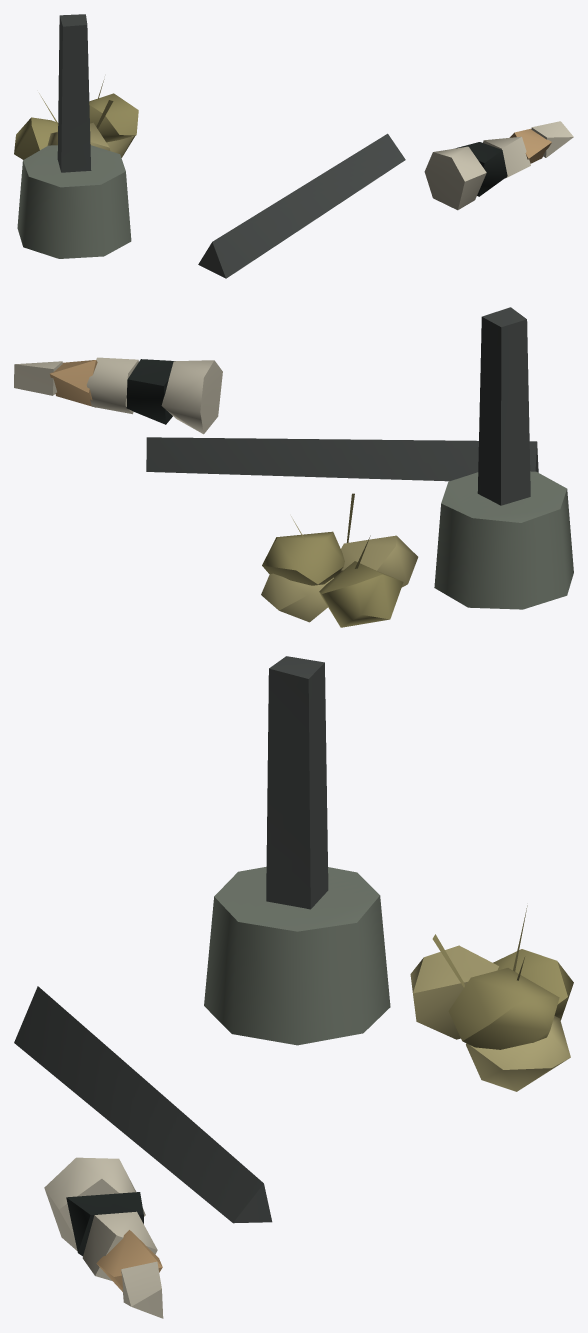
The model's file is windsock_b_lod2.glb.
3 renders of one model, top to bottom at view 1: azimuth 30°, elevation 25°; view 2: azimuth 150°, elevation 25°; view 3: azimuth 270°, elevation 25°, orthographic. The views are drawn at different scales.
Visible parts, largest first — view 1: Surface.001; view 2: Surface.001; view 3: Surface.001.
Boxes of the visible parts, left/top/right/bottom form: Surface.001: left=14, top=14, right=573, bottom=278; Surface.001: left=14, top=307, right=573, bottom=627; Surface.001: left=14, top=656, right=573, bottom=1318.
Size of the model in its own units: 3.6 by 1.49 by 2.22.
